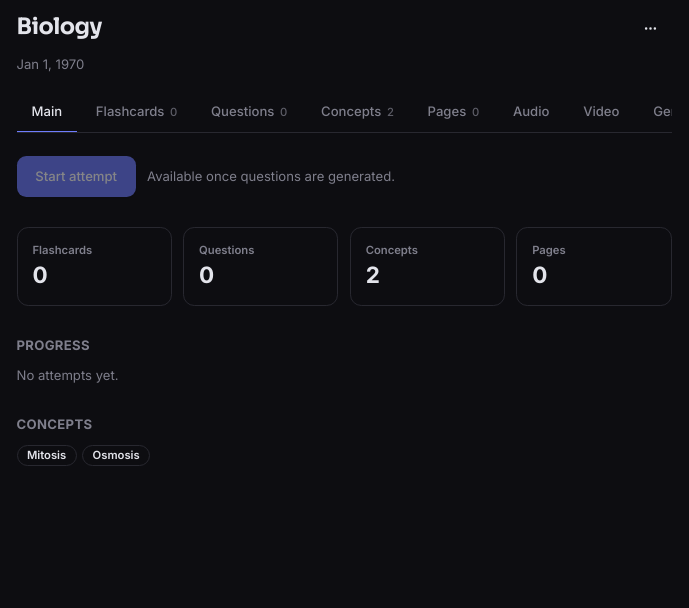
Test case: PrepPage concepts › renders each concept as a card with its fields
Click the tab "Concepts2" at (357, 113), box [306,92,409,133]
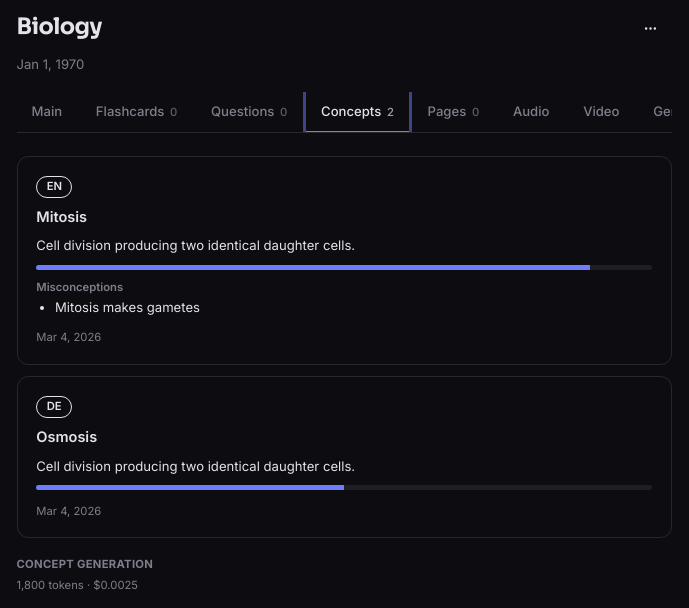
Expected: the list item that starts with "Mitosis" is shown, [36,208,87,226]
Expected: the list item that starts with "Mitosis" shows "Cell division producing two identical daughter cells.", [36,237,355,253]
Expected: the list item that starts with "Mitosis" shows "Mitosis makes gametes", [55,299,200,315]
